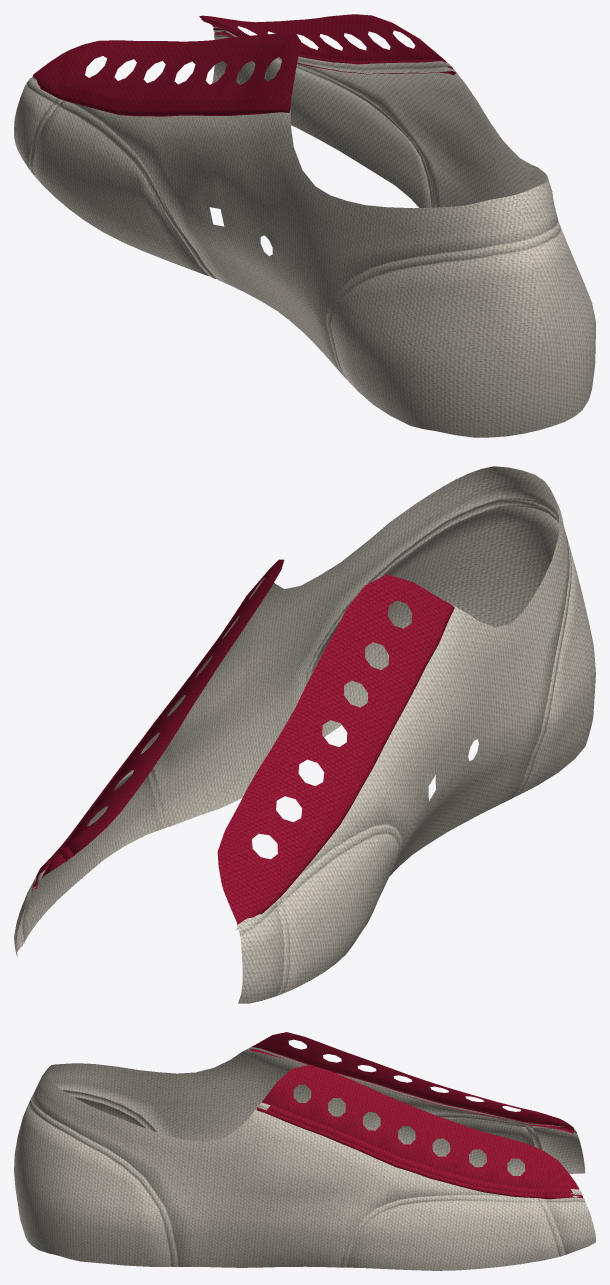
3 views of the same model, one above another, from view 1: azimuth 30°, elevation 25°; view 2: azimuth 150°, elevation 25°; view 3: azimuth 270°, elevation 25° (orthographic). The views are drawn at different scales.
Parts seen in each view (by area): view 1: Quarter, Quarter.001; view 2: Quarter, Quarter.001; view 3: Quarter, Quarter.001.
Part boxes in pixels (x1,y1,x2,y2): Quarter: (14, 26, 595, 437); Quarter.001: (33, 14, 456, 116); Quarter: (14, 466, 595, 1003); Quarter.001: (32, 559, 454, 929); Quarter: (14, 1047, 595, 1270); Quarter.001: (250, 1032, 582, 1199).
Size of the model in its own units: 0.0934 by 0.0864 by 0.2466.
2 materials, 2 textured.
